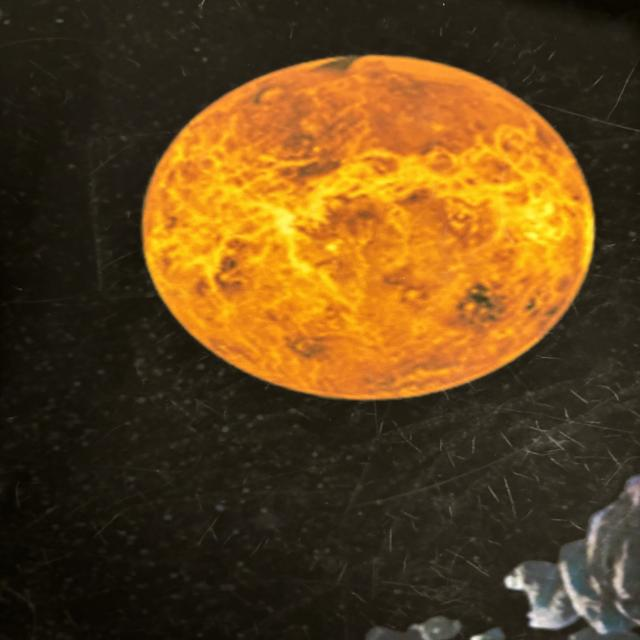Venus: (135, 48, 600, 406)
